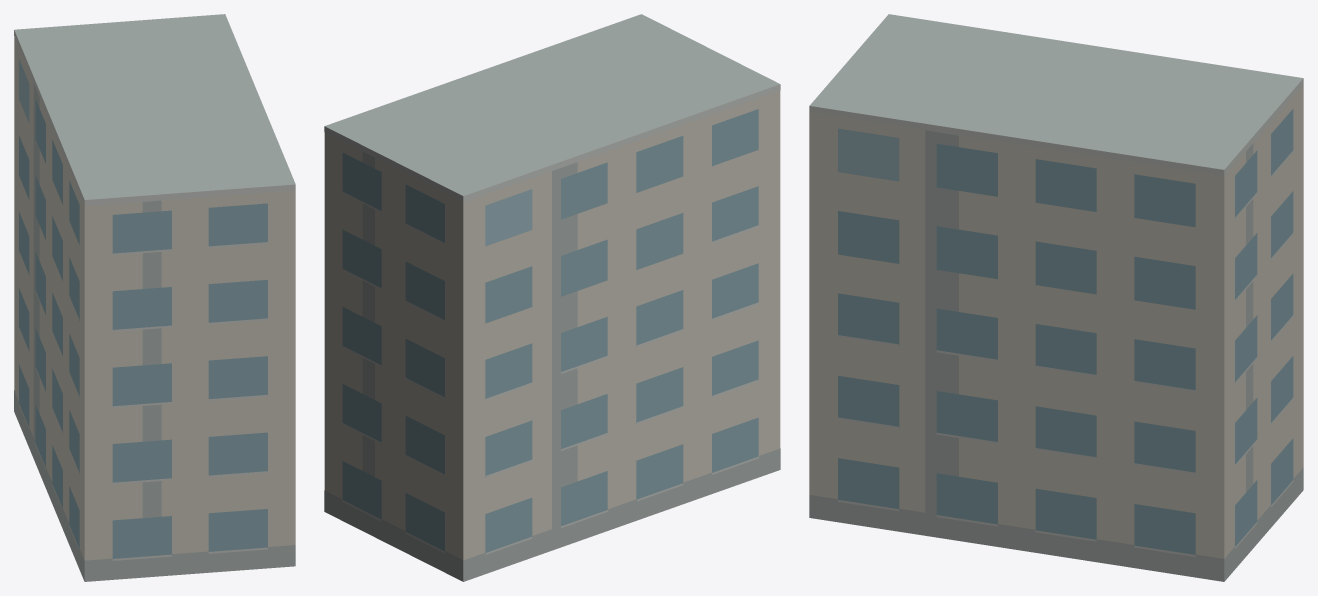
File: residential-4119fc23-c508-45fa-b454-4e0cdd631fbc.glb
3 views of the same model, side by side, from view 1: azimuth 30°, elevation 25°; view 2: azimuth 150°, elevation 25°; view 3: azimuth 270°, elevation 25° (orthographic). The views are drawn at different scales.
Parts seen in each view (by area): view 1: residential-4119fc23-c508-45fa-b454-4e0cdd631fbc.tmp; view 2: residential-4119fc23-c508-45fa-b454-4e0cdd631fbc.tmp; view 3: residential-4119fc23-c508-45fa-b454-4e0cdd631fbc.tmp.
Boxes of the visible parts, box(x1,y1,x2,y2) form: residential-4119fc23-c508-45fa-b454-4e0cdd631fbc.tmp: box(14, 14, 295, 581); residential-4119fc23-c508-45fa-b454-4e0cdd631fbc.tmp: box(324, 14, 780, 581); residential-4119fc23-c508-45fa-b454-4e0cdd631fbc.tmp: box(809, 14, 1303, 581).
Size of the model in its own units: 12.38 by 15.25 by 16.59.
